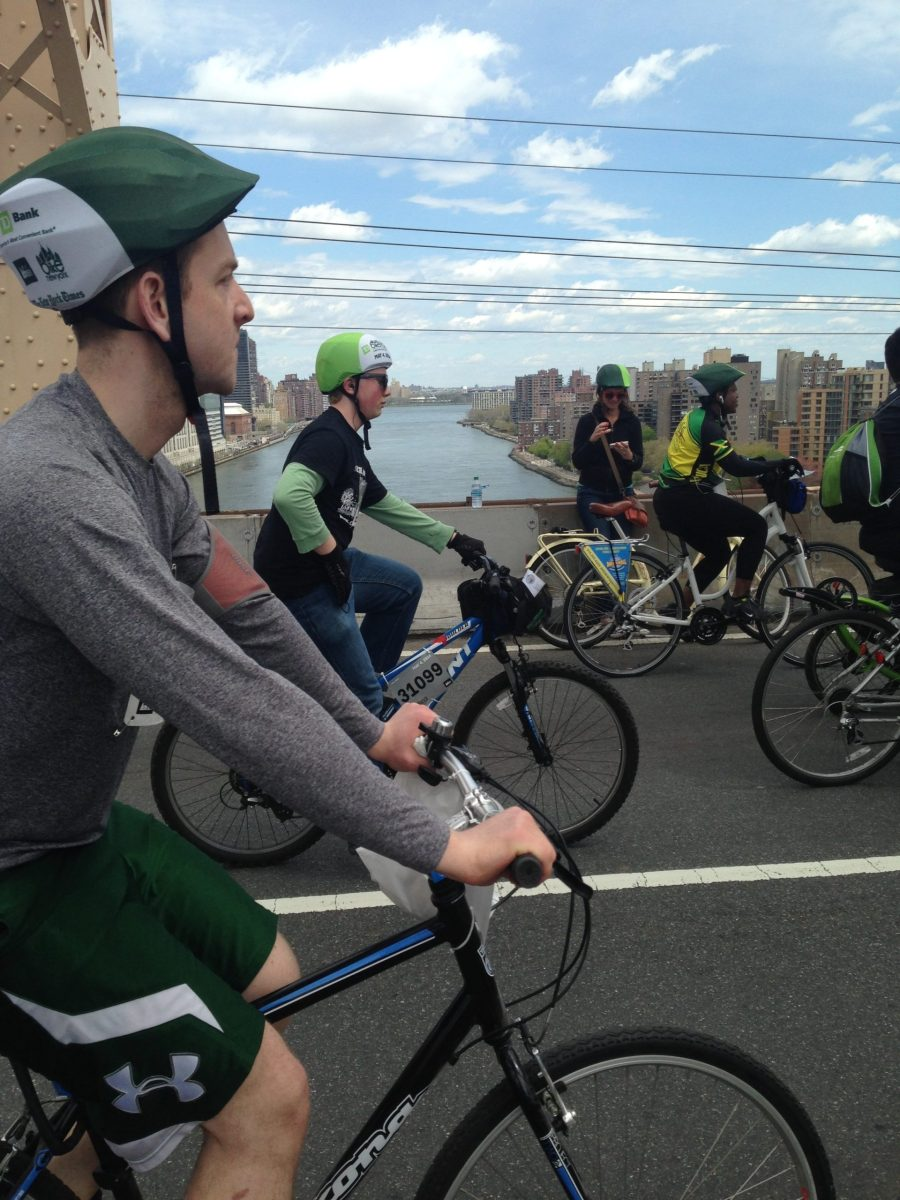helmet: (1, 126, 260, 397), (316, 332, 392, 420), (684, 363, 747, 414), (596, 364, 630, 409)
